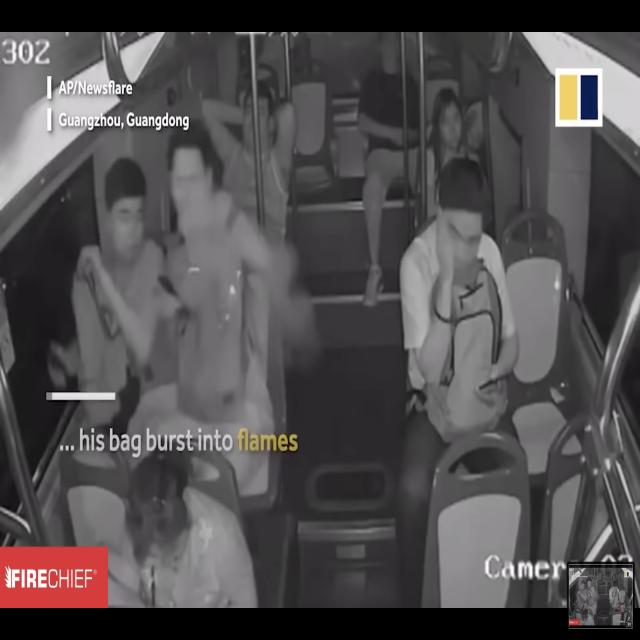Atencao: (170, 193, 328, 404)
